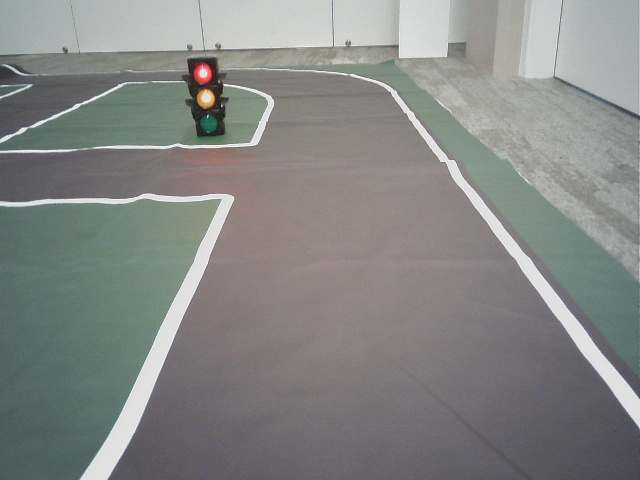red: (189, 59, 222, 132)
